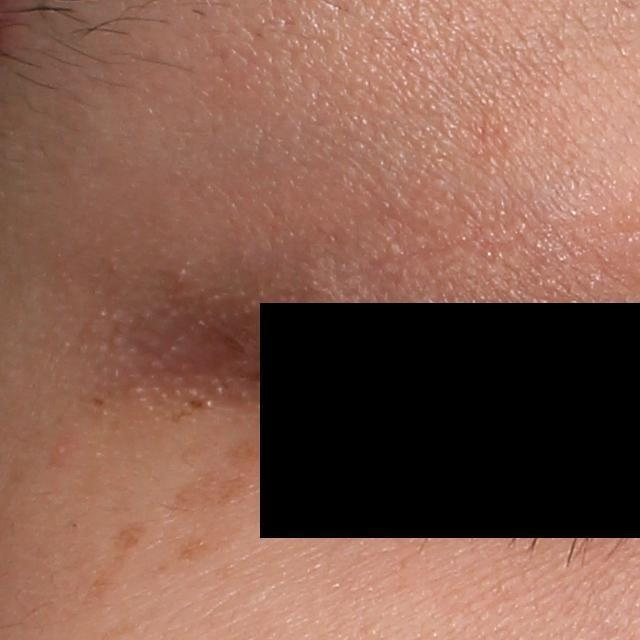melasma: (161, 429, 282, 576), (78, 511, 143, 616)
other: (50, 247, 318, 416)
